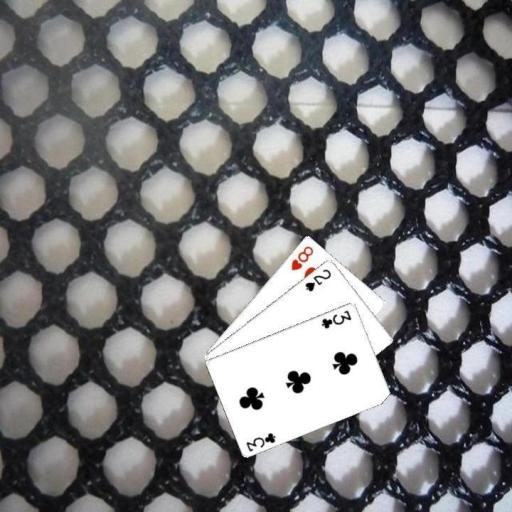card-corner: (302, 265, 333, 293), (318, 306, 352, 330), (244, 429, 278, 453), (288, 242, 315, 272)
